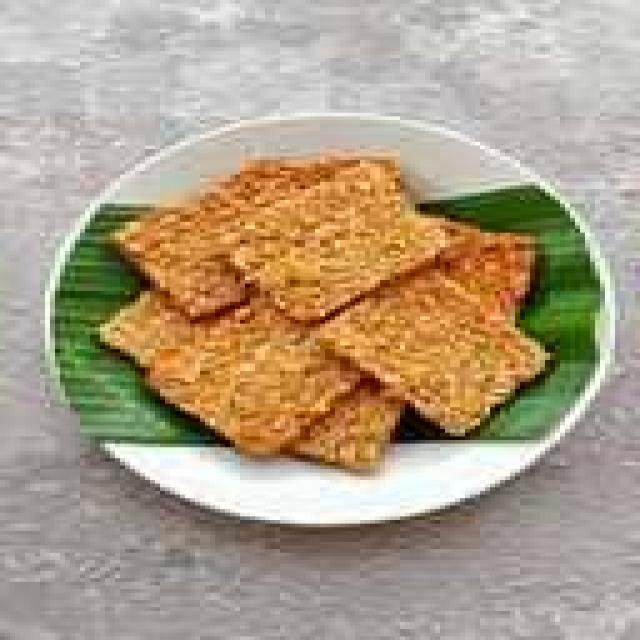tempe goreng: (314, 269, 558, 441), (212, 165, 454, 319), (139, 310, 339, 443)
